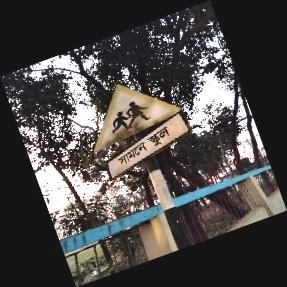School-in-front: (95, 84, 189, 181)
